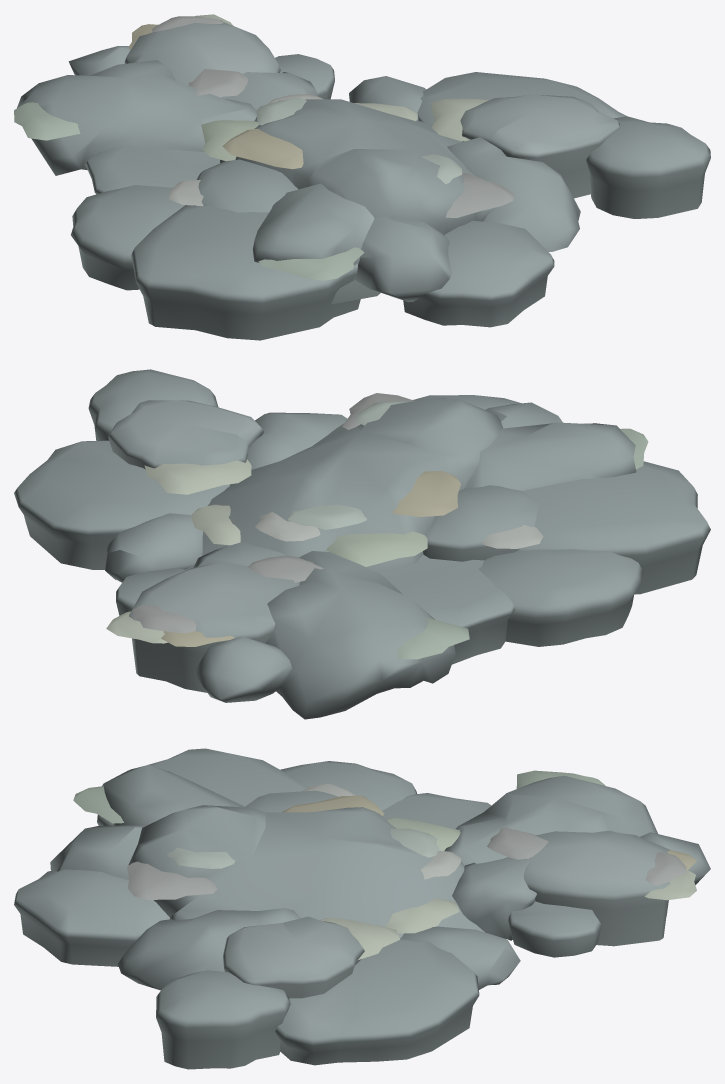
3 views of the same model, one above another, from view 1: azimuth 30°, elevation 25°; view 2: azimuth 150°, elevation 25°; view 3: azimuth 270°, elevation 25° (orthographic). The views are drawn at different scales.
Parts seen in each view (by area): view 1: G:\FFXIV-MapTools\exports\y6t1\bg\ex5\02_ykt_y6\twn\y6t1\bgp (×2); view 2: G:\FFXIV-MapTools\exports\y6t1\bg\ex5\02_ykt_y6\twn\y6t1\bgp (×2); view 3: G:\FFXIV-MapTools\exports\y6t1\bg\ex5\02_ykt_y6\twn\y6t1\bgp (×2).
Part boxes in pixels (<box>): G:\FFXIV-MapTools\exports\y6t1\bg\ex5\02_ykt_y6\twn\y6t1\bgp (×2): <box>14,14,710,340</box>; G:\FFXIV-MapTools\exports\y6t1\bg\ex5\02_ykt_y6\twn\y6t1\bgp (×2): <box>14,369,710,719</box>; G:\FFXIV-MapTools\exports\y6t1\bg\ex5\02_ykt_y6\twn\y6t1\bgp (×2): <box>14,748,710,1069</box>.
Size of the model in its own units: 28.66 by 5.52 by 30.59.
